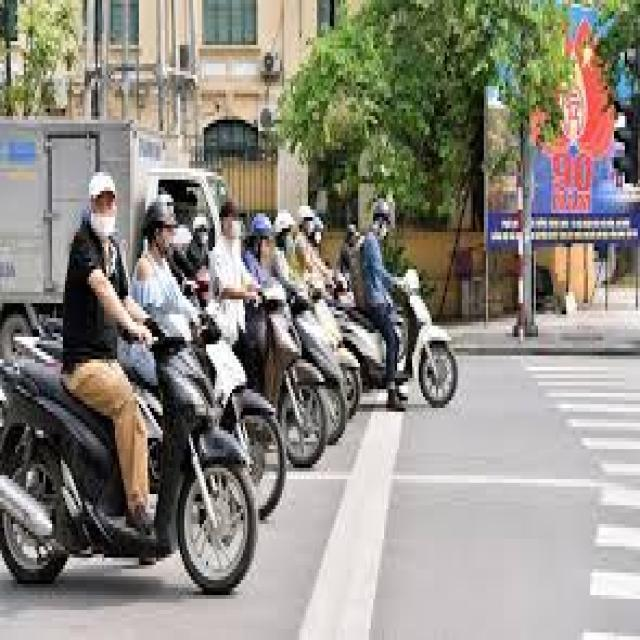motorcycle: (11, 308, 261, 608), (338, 266, 465, 415)
